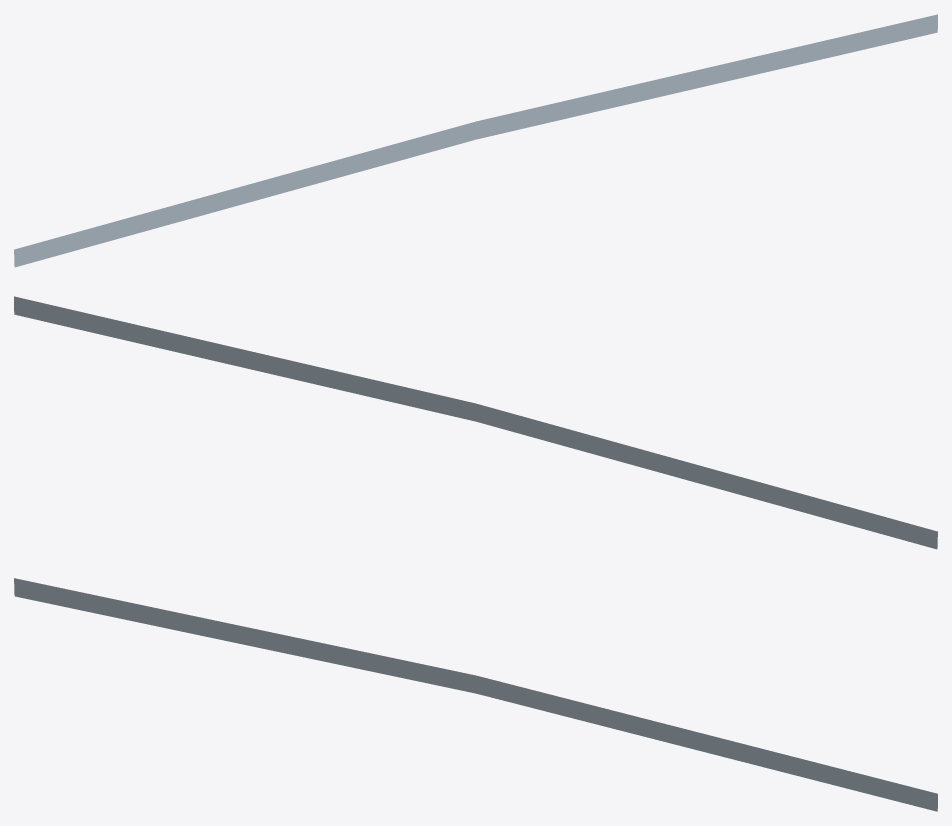
Rendered from 2071_LaceratingSlash_HorizontalScar.fbx.
3 renders of one model, top to bottom at view 1: azimuth 30°, elevation 25°; view 2: azimuth 150°, elevation 25°; view 3: azimuth 330°, elevation 25°, orthographic.
Parts seen in each view (by area): view 1: PART_OneHorizontalPhysicalScar; view 2: PART_OneHorizontalPhysicalScar; view 3: PART_OneHorizontalPhysicalScar.
Boxes of the visible parts, <box> form: PART_OneHorizontalPhysicalScar: <box>14,14,937,267</box>; PART_OneHorizontalPhysicalScar: <box>14,296,937,549</box>; PART_OneHorizontalPhysicalScar: <box>14,578,937,811</box>.
Size of the model in its own units: 692 by 24 by 3.91e-06.
